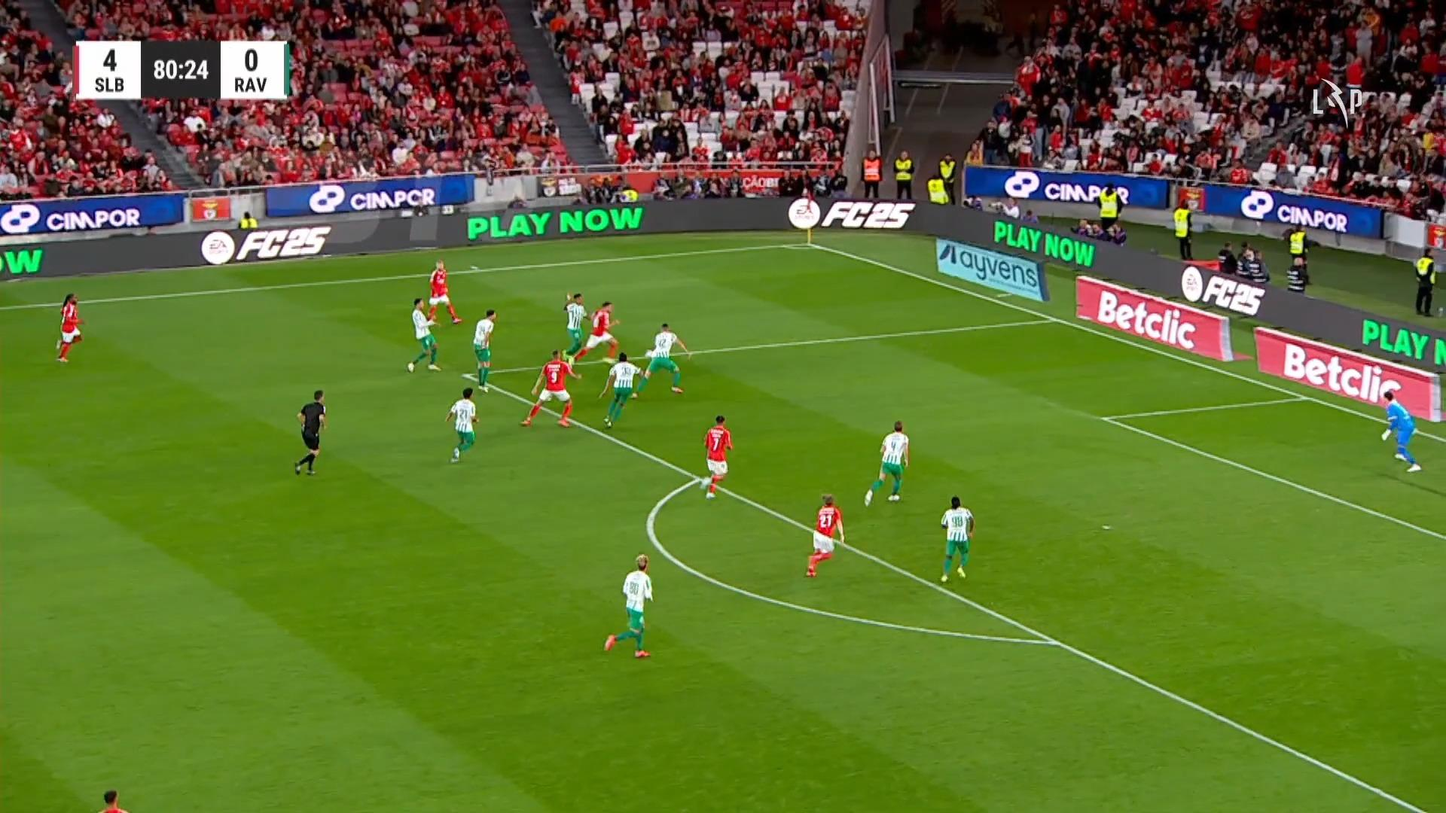ball: (538, 389, 552, 403)
goalkeeper: (1379, 388, 1422, 473)
player: (602, 553, 654, 659), (519, 349, 581, 428), (630, 321, 691, 399), (862, 419, 909, 506), (596, 351, 642, 428), (804, 492, 845, 577), (569, 300, 621, 366), (938, 495, 974, 583), (700, 414, 733, 499), (405, 297, 441, 373), (444, 387, 479, 463), (425, 258, 462, 325), (54, 292, 85, 363), (471, 308, 496, 393), (563, 291, 587, 362), (1413, 246, 1435, 316), (1173, 199, 1194, 260)
referee: (293, 389, 327, 475)
